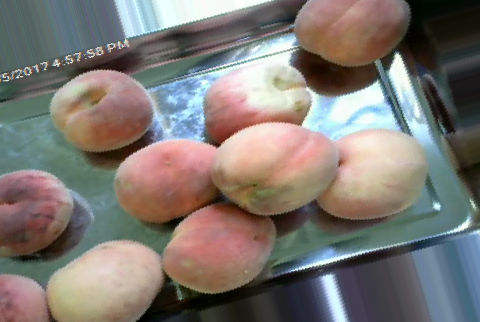Peach: (214, 121, 337, 214), (163, 203, 274, 293), (317, 129, 425, 220), (45, 239, 162, 321), (204, 58, 308, 144), (50, 67, 155, 152), (115, 139, 221, 221), (293, 0, 411, 66)
